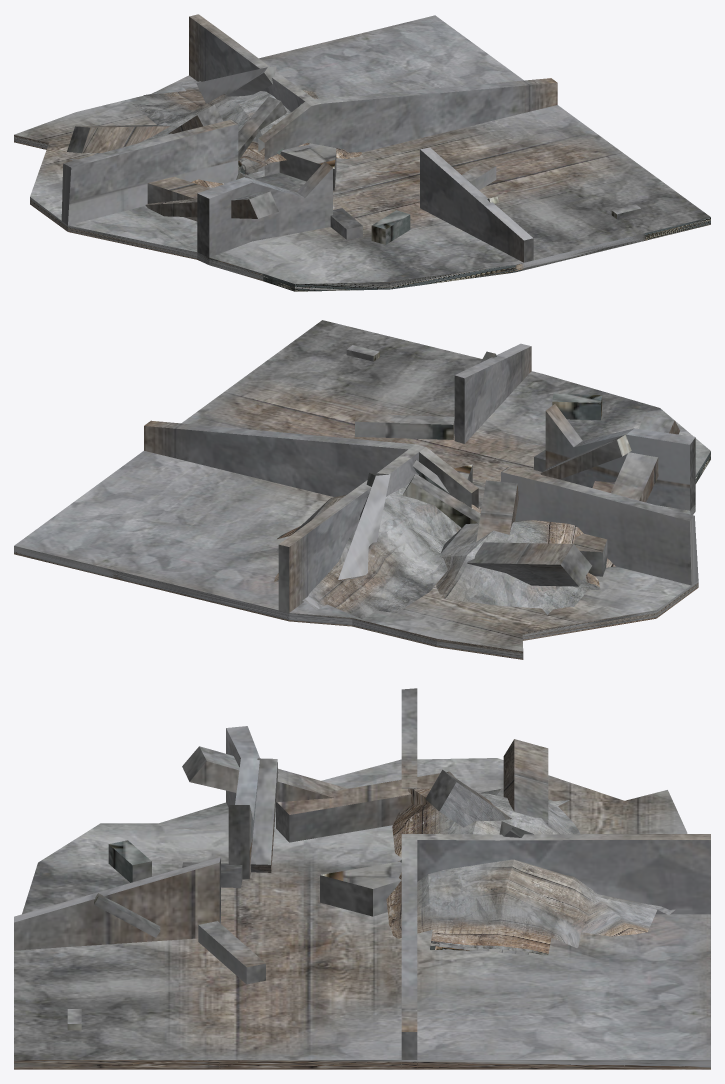
Rendered from stockwerkboden2.obj.
The picture shows the model from 3 angles, top to bottom: view 1: azimuth 30°, elevation 25°; view 2: azimuth 150°, elevation 25°; view 3: azimuth 270°, elevation 25°; orthographic projection. The views are drawn at different scales.
Visible parts, largest first — view 1: polySurface193; view 2: polySurface193; view 3: polySurface193.
Boxes of the visible parts, x1,y1,x2,y2 form: polySurface193: (14,14,710,291); polySurface193: (14,320,710,659); polySurface193: (14,688,710,1069).
Bounding box in the file's own units: 12.47 × 1.85 × 12.16.
Materials: 1 (1 with a texture image).
